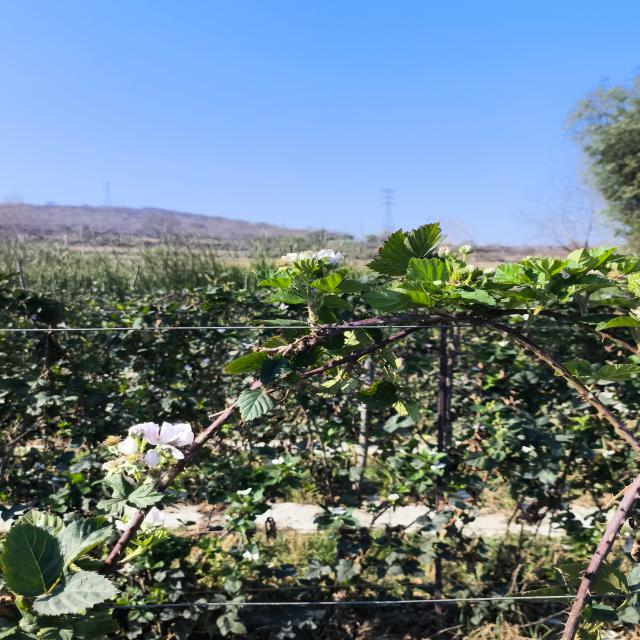boton: (459, 244, 475, 256), (438, 246, 452, 257), (466, 264, 479, 274), (483, 268, 495, 276)
flor: (134, 422, 194, 459), (316, 249, 344, 266)
